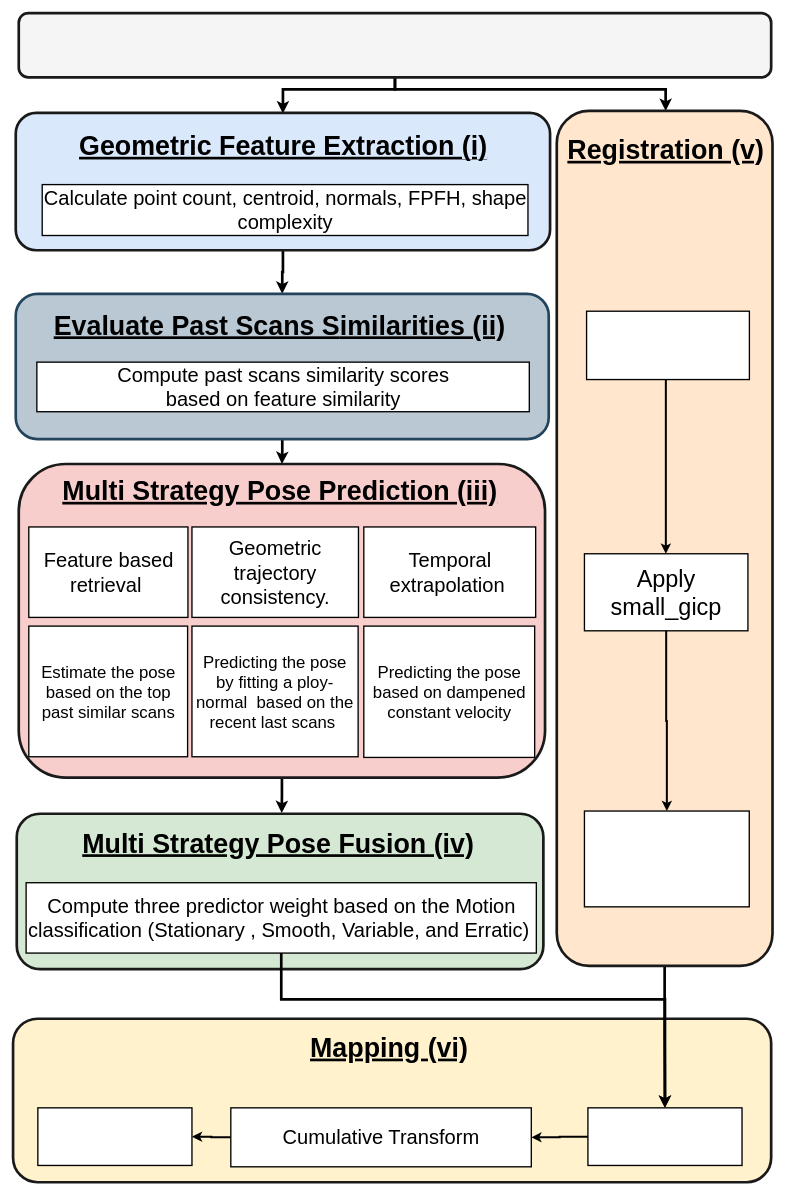
Image size: 785x1195. Some labels were removed from this diagram. Here are the shapes that lost their labels. From the top down, the box of each, then its label:
(17, 11, 772, 78): Non repetitive scan
(586, 310, 750, 380): Uniform down sampling
(583, 810, 750, 907): Transformation pose
(37, 1107, 192, 1166): Map
(587, 1107, 742, 1166): Update State
